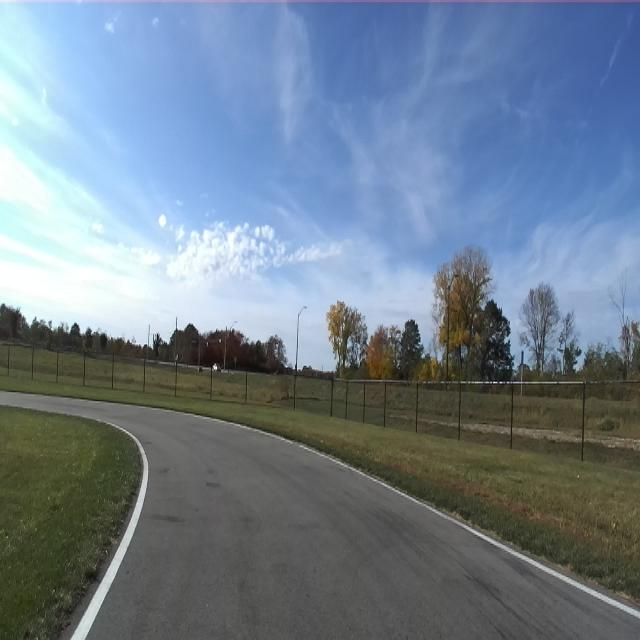white-line: (196, 415, 640, 619), (70, 422, 148, 639)
